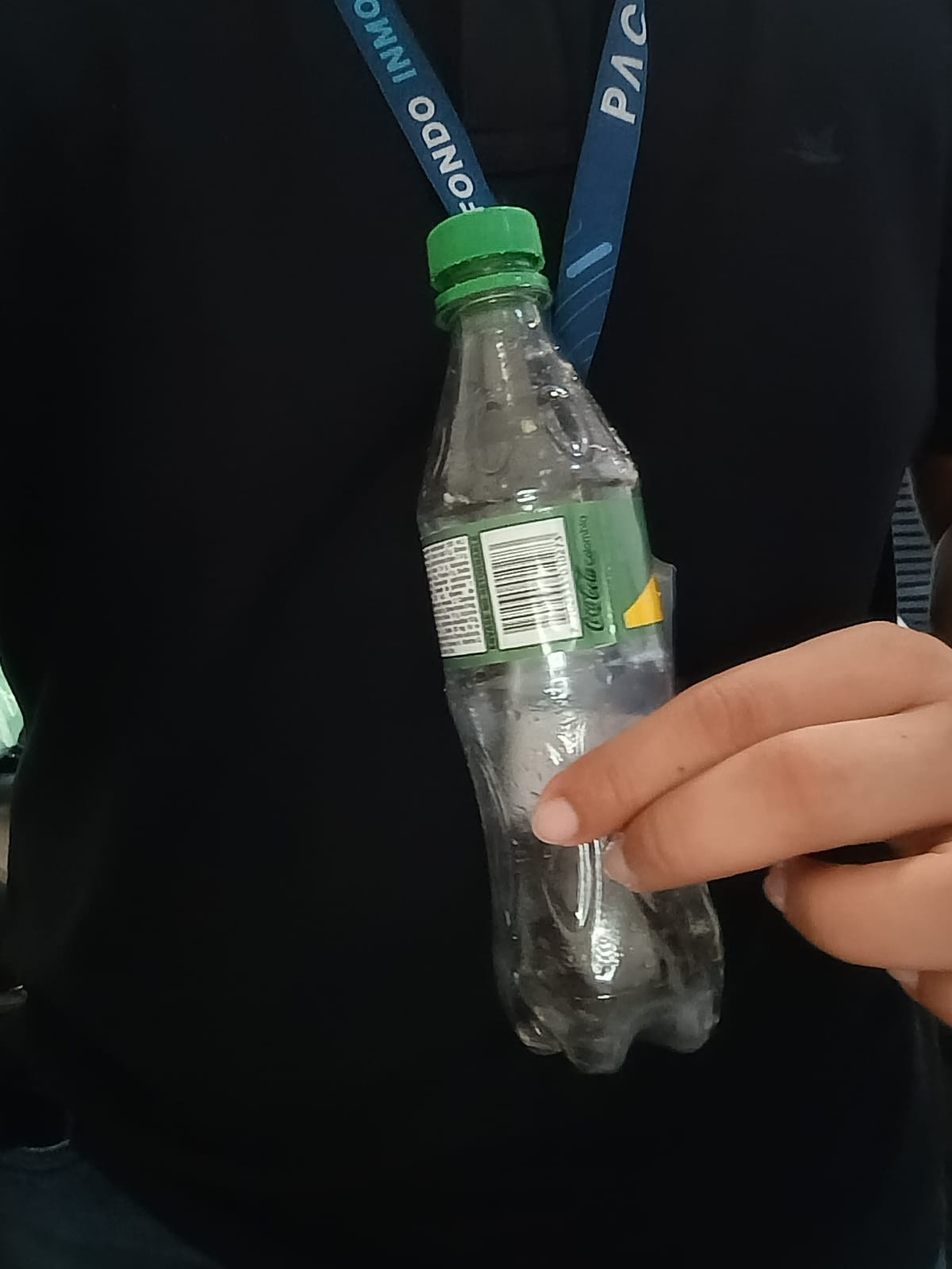Plastico: (412, 205, 721, 1071)
